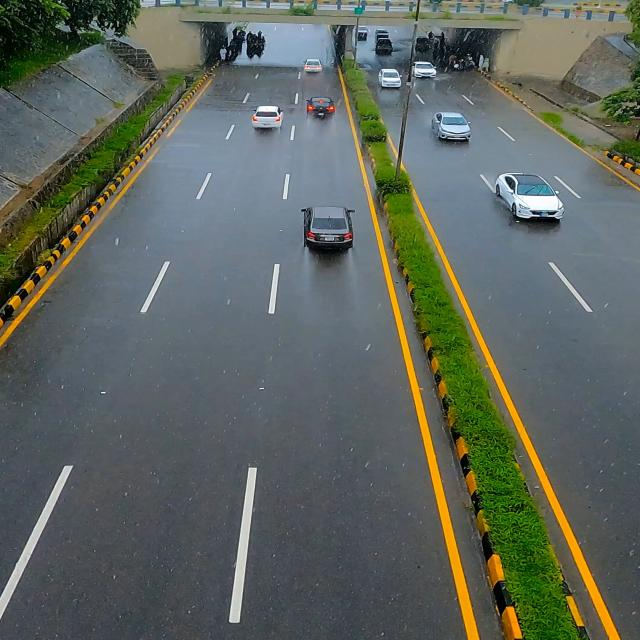Car: (492, 167, 572, 227), (301, 204, 363, 257), (431, 105, 476, 147), (249, 102, 289, 138), (304, 93, 339, 124), (373, 64, 406, 92), (412, 58, 441, 85)
